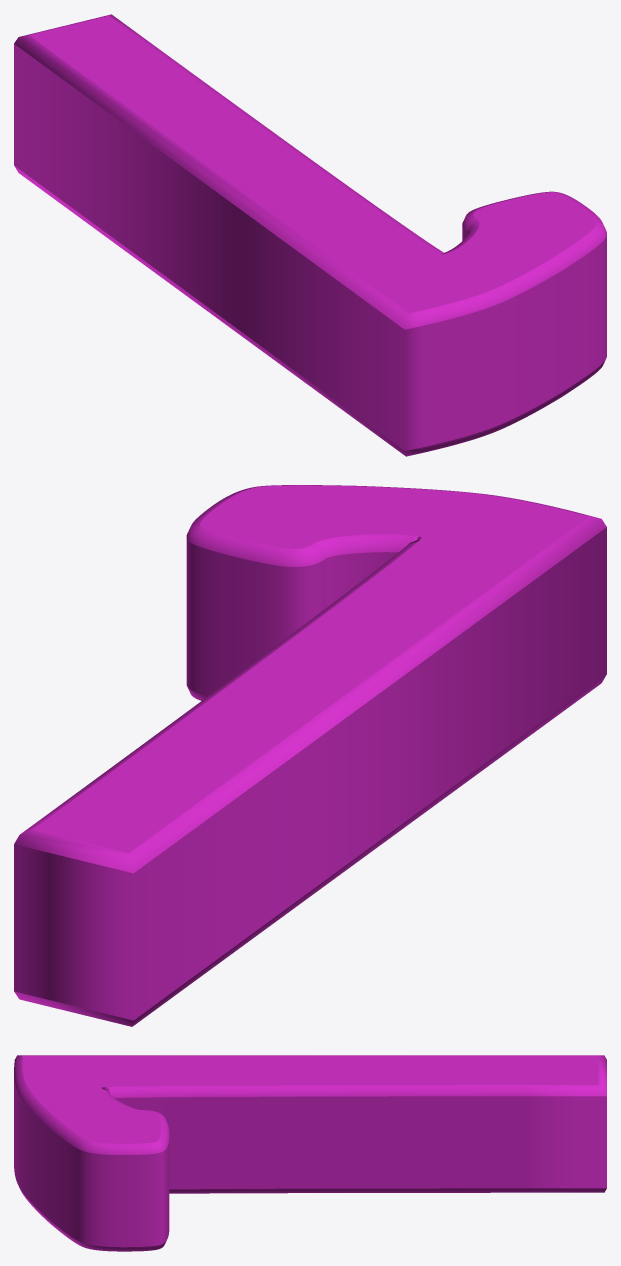
Rendered from Number_1_CoolFont.fbx.
3 renders of one model, top to bottom at view 1: azimuth 30°, elevation 25°; view 2: azimuth 150°, elevation 25°; view 3: azimuth 270°, elevation 25°, orthographic. The views are drawn at different scales.
Visible parts, largest first — view 1: Number_1; view 2: Number_1; view 3: Number_1.
Boxes of the visible parts, box(x1,y1,x2,y2) form: Number_1: box(14, 14, 606, 456); Number_1: box(14, 485, 606, 1026); Number_1: box(14, 1055, 606, 1251).
Size of the model in its own units: 0.2664 by 0.14 by 0.7005.
